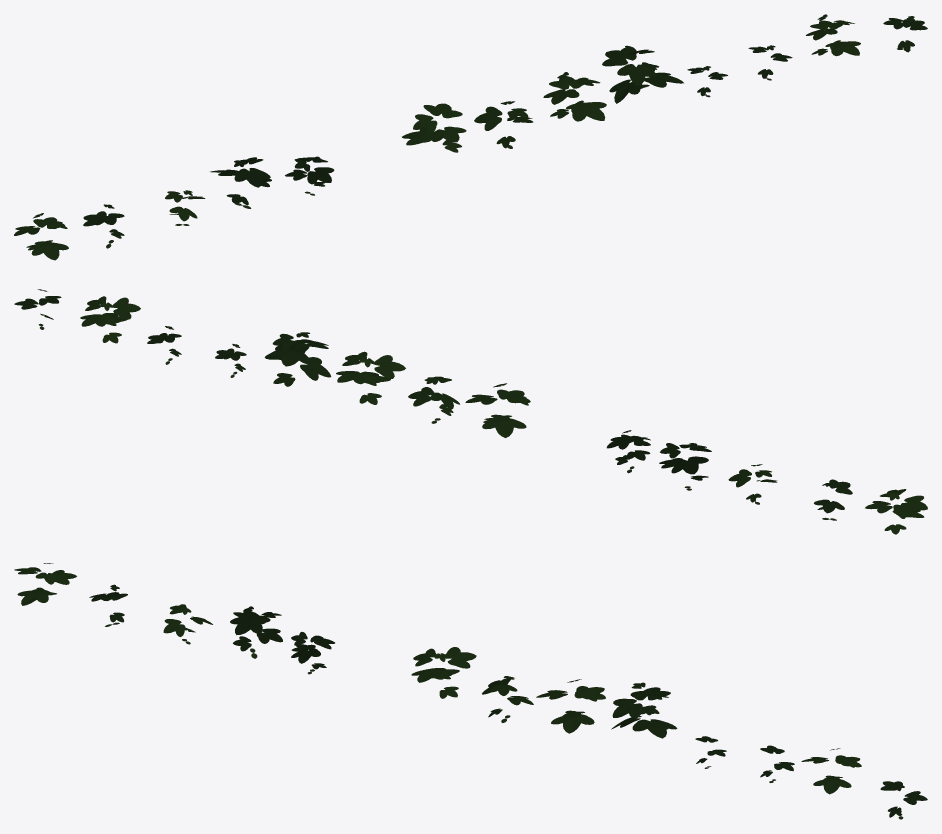
File: ROW_05_SEG5_foliage.dae
3 views of the same model, one above another, from view 1: azimuth 30°, elevation 25°; view 2: azimuth 150°, elevation 25°; view 3: azimuth 330°, elevation 25° (orthographic).
Parts seen in each view (by area): view 1: ROW_05_SEG5_foliage; view 2: ROW_05_SEG5_foliage; view 3: ROW_05_SEG5_foliage.
Boxes of the visible parts, <box> form: ROW_05_SEG5_foliage: <box>14,14,927,260</box>; ROW_05_SEG5_foliage: <box>14,289,927,534</box>; ROW_05_SEG5_foliage: <box>14,563,927,819</box>.
Bounding box in the file's own units: 4.25 × 0.3593 × 0.2854.
